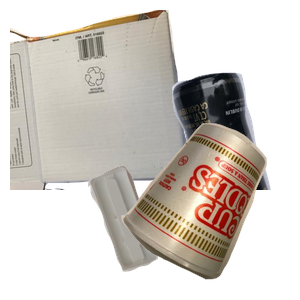cardboard: (10, 10, 191, 190)
glass: (106, 70, 300, 250)
plastic: (85, 163, 235, 300)
trash: (119, 121, 300, 300)
